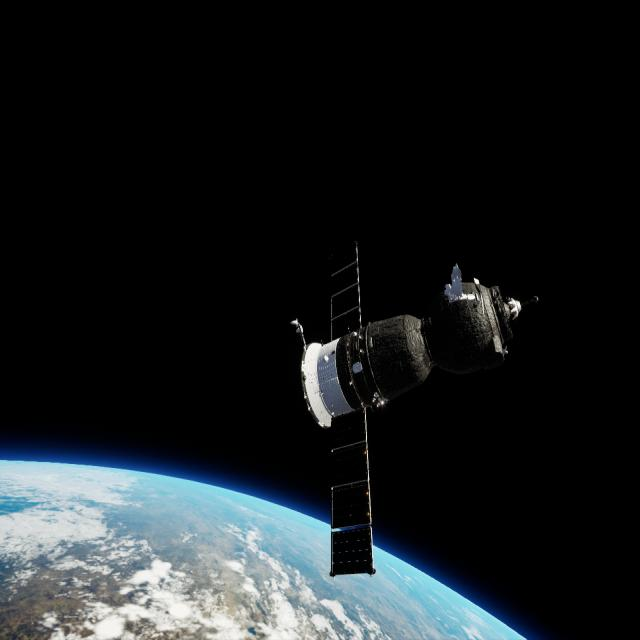Satellites revolving around earth: (288, 237, 540, 581)
